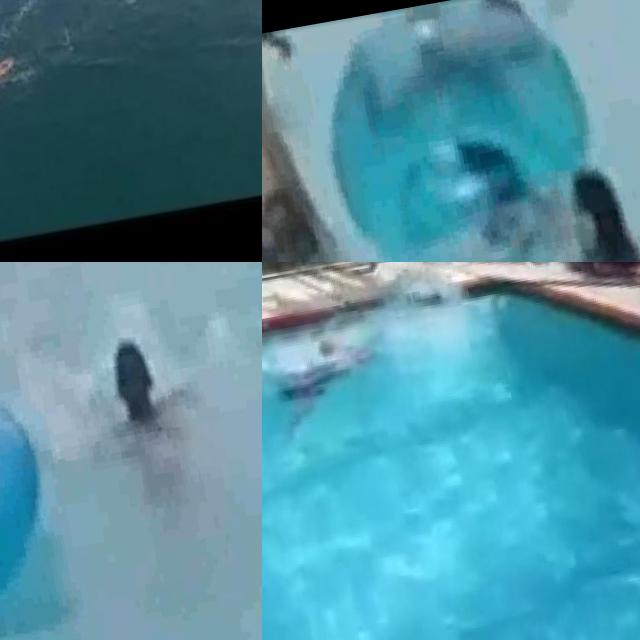drowning: (34, 286, 256, 568), (528, 145, 640, 262), (271, 314, 374, 432)
swimming: (0, 48, 25, 137)
